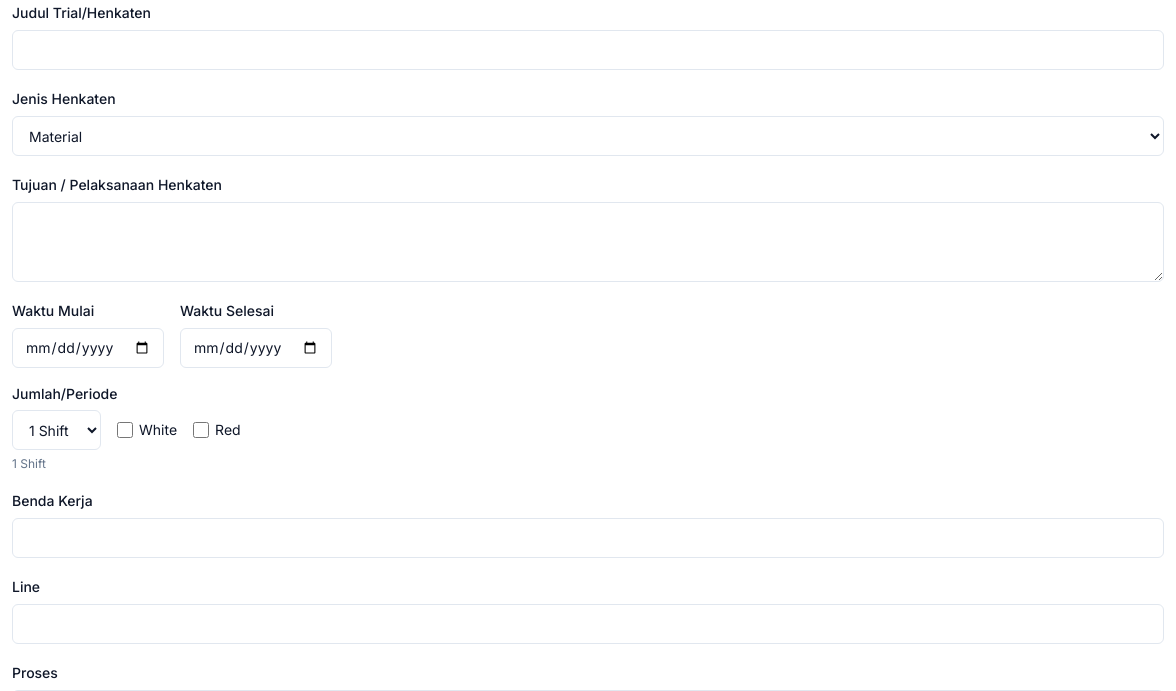
Test: HeaderFields › previews the combined jumlah/periode label
Select "2 Shift" in the dropdown named "Jumlah/Periode Shift": (56, 430) [12,410,101,450]
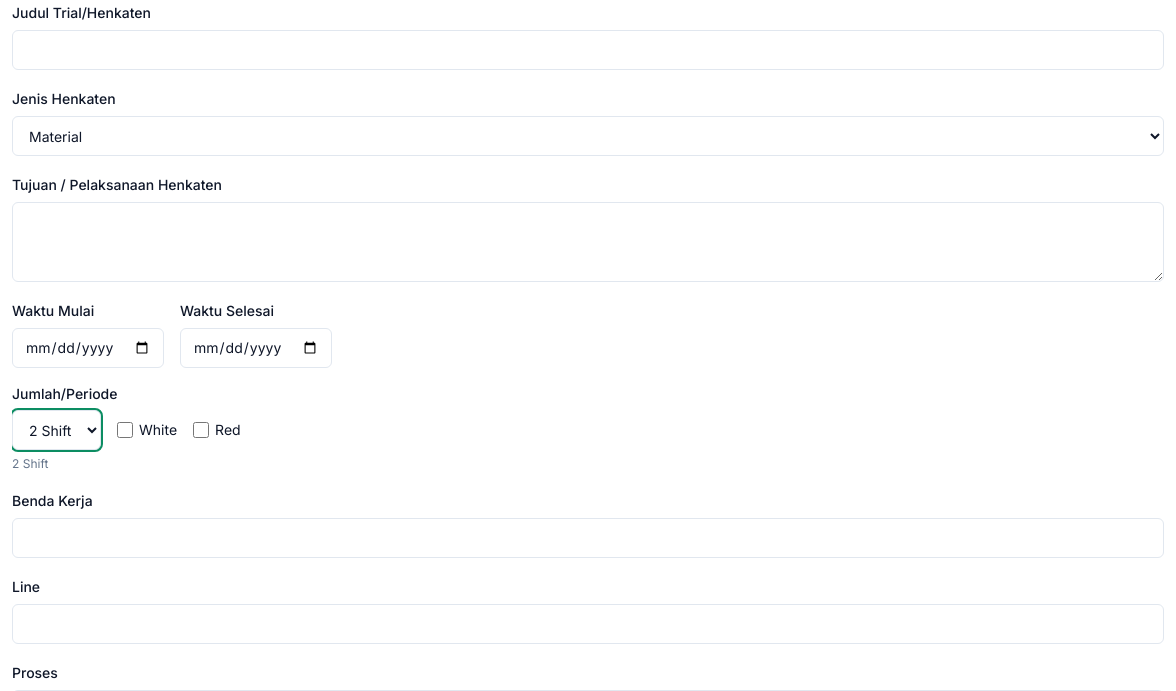
Click the checkbox labelled "White": (125, 430) [117,422,133,438]
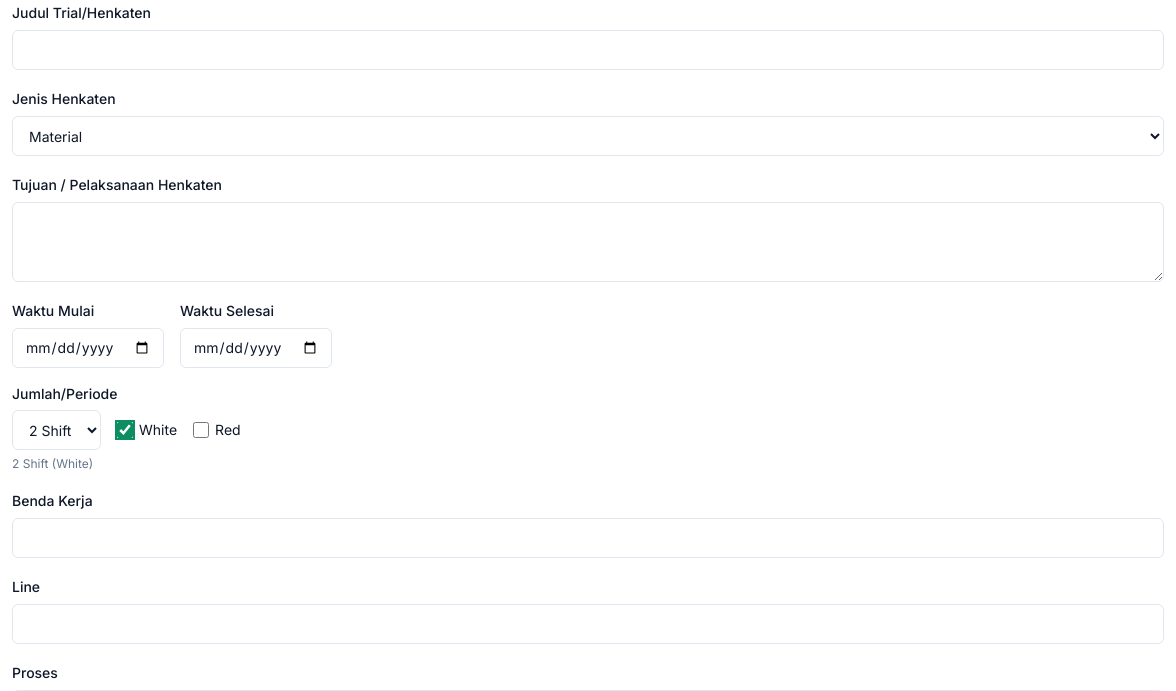
Click the checkbox labelled "Red": (201, 430) [193,422,209,438]
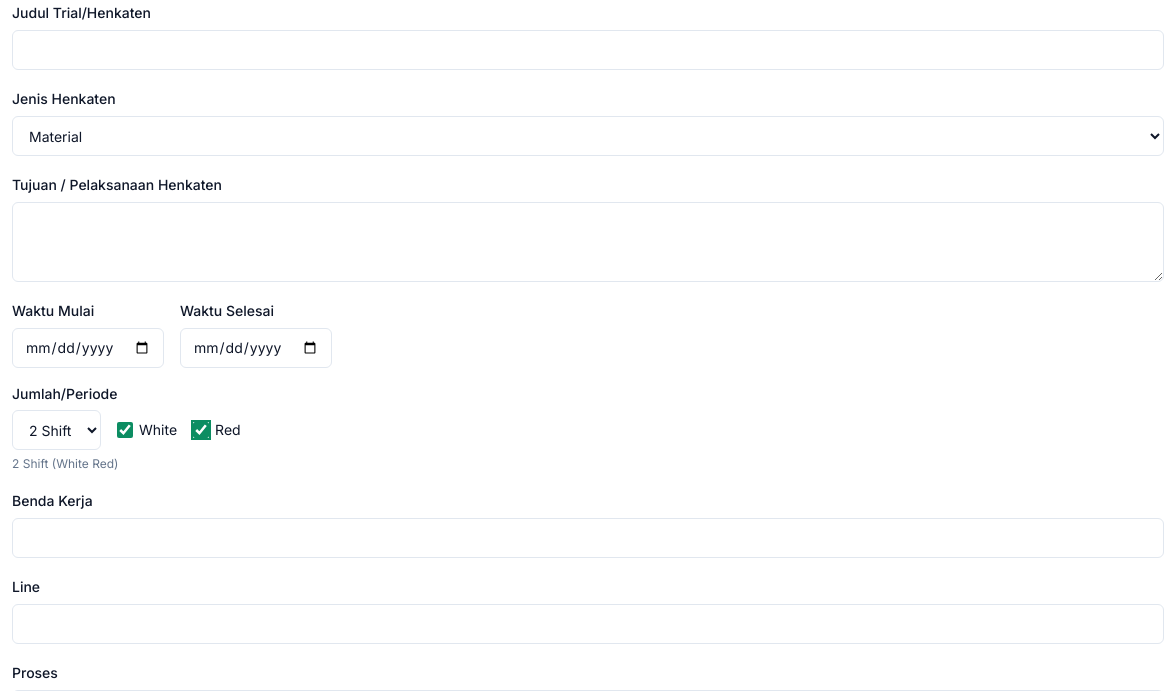
Result: the text with test id "jumlah-periode-preview" reads "2 Shift (White Red)" at [12,456,118,471]
